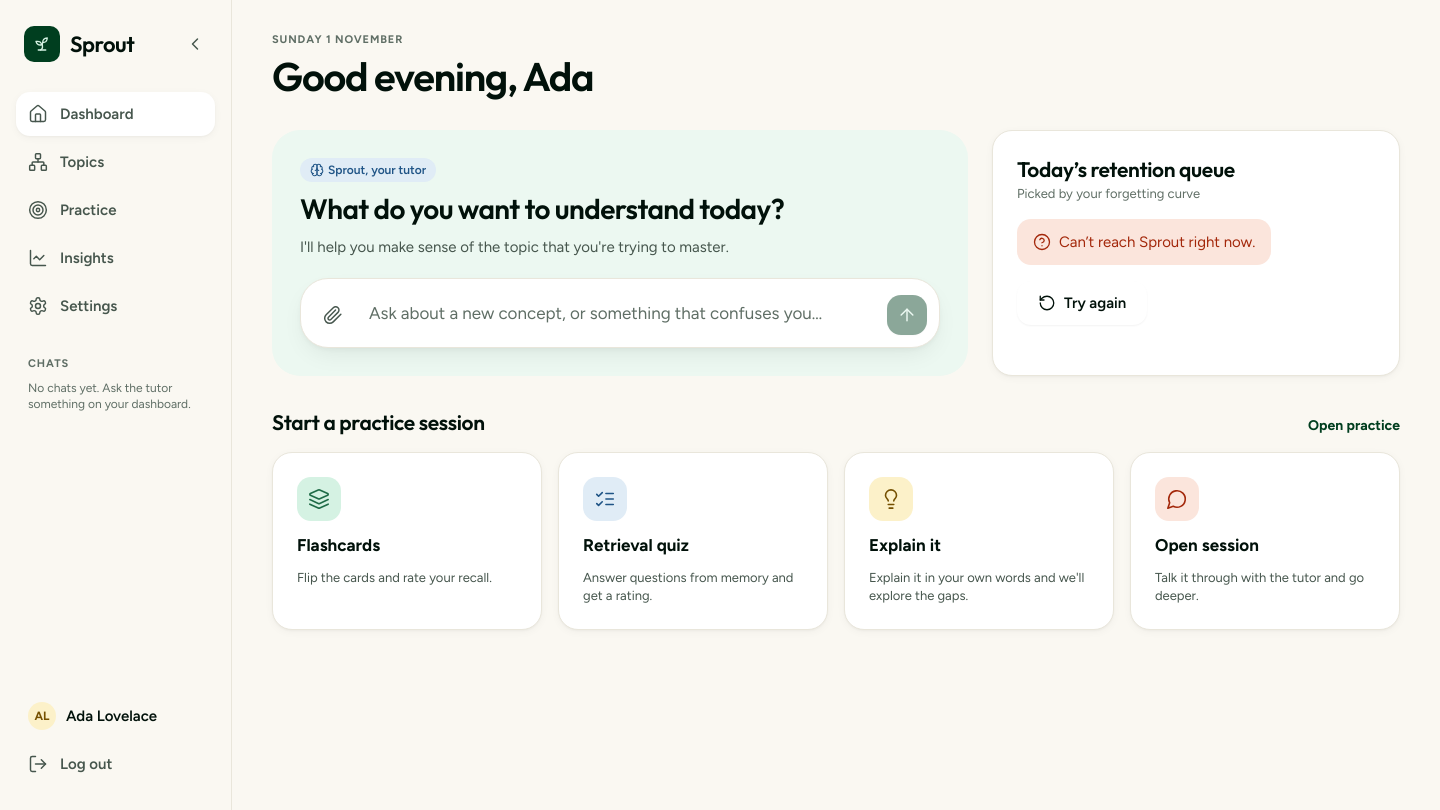
Test: DashboardView › the retention queue › shows why the library didn’t load and tries again
Expected: the message with test id "form-error" reads "Can’t reach Sprout right now.", [1059,233,1256,251]
Click the button with test id "queue-retry".
click(1082, 303)  # box [1017,281,1147,325]
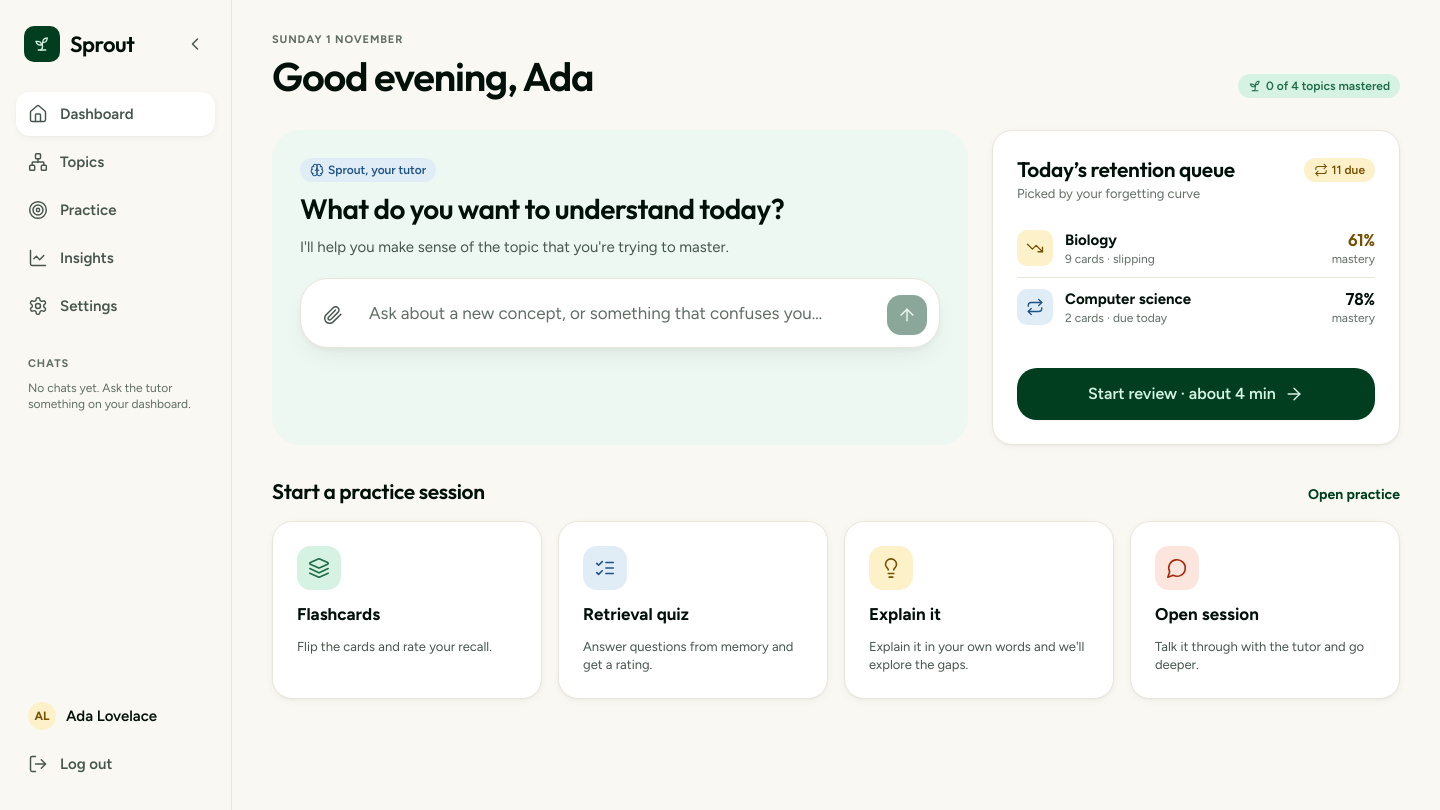
Expected: the number of links with test id "queue-item" is 2, [1009,219,1383,277]; [1009,278,1383,336]
